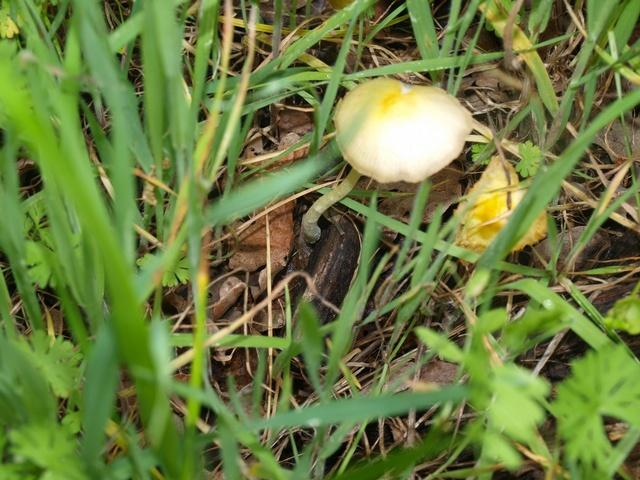edible_mushroom: (301, 75, 473, 243)
